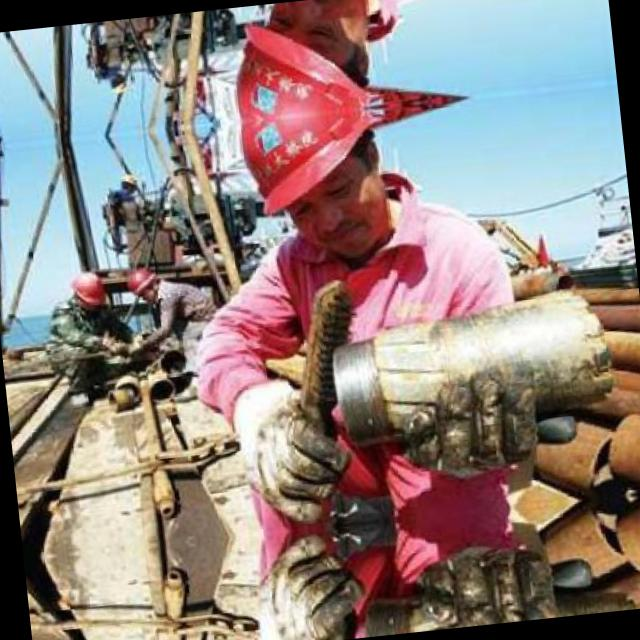helmet: (232, 104, 412, 272), (219, 0, 396, 120), (66, 266, 107, 314), (122, 260, 160, 306), (116, 169, 140, 193), (105, 71, 129, 95)
